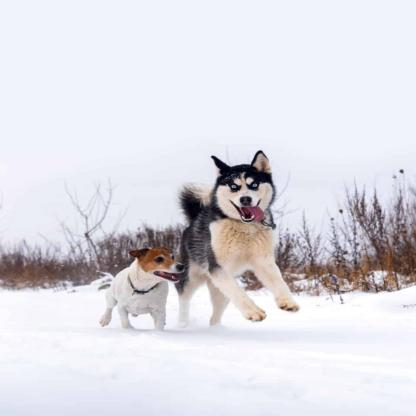husky: (178, 150, 302, 335)
